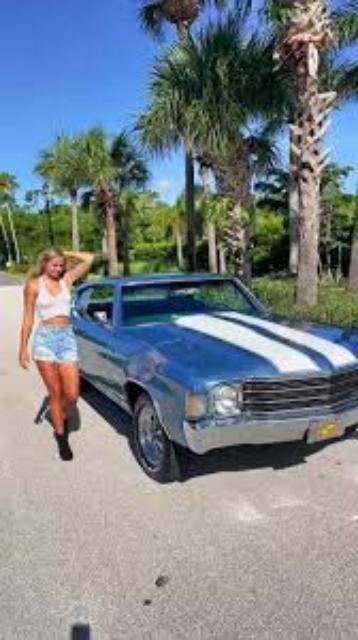chevelle-1972: (73, 273, 356, 480)
